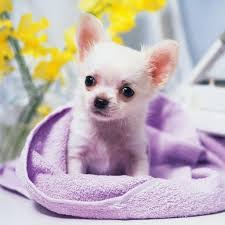chihuahua: (49, 9, 181, 190)
